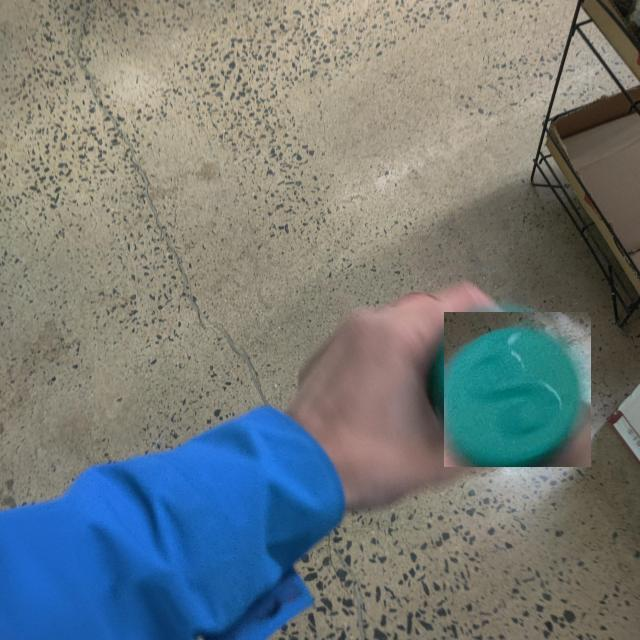Juice: (445, 311, 591, 467)
